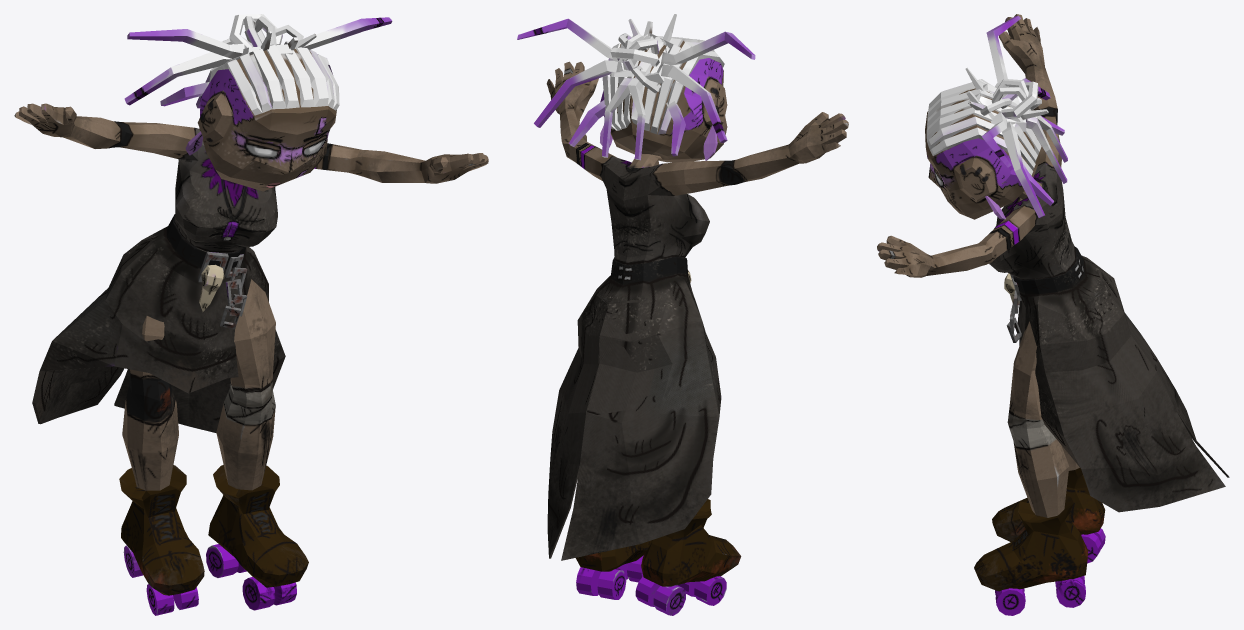
The model's file is bruja_000117.obj.
3 renders of one model, left to right at view 1: azimuth 30°, elevation 25°; view 2: azimuth 150°, elevation 25°; view 3: azimuth 270°, elevation 25°, orthographic. The views are drawn at different scales.
Parts seen in each view (by area): view 1: Bruja_Plane.001; view 2: Bruja_Plane.001; view 3: Bruja_Plane.001.
Part boxes in pixels (x1,y1,x2,y2): Bruja_Plane.001: (14, 14, 488, 615); Bruja_Plane.001: (517, 14, 848, 615); Bruja_Plane.001: (877, 14, 1229, 615).
Size of the model in its own units: 11.23 by 16.46 by 9.8.
